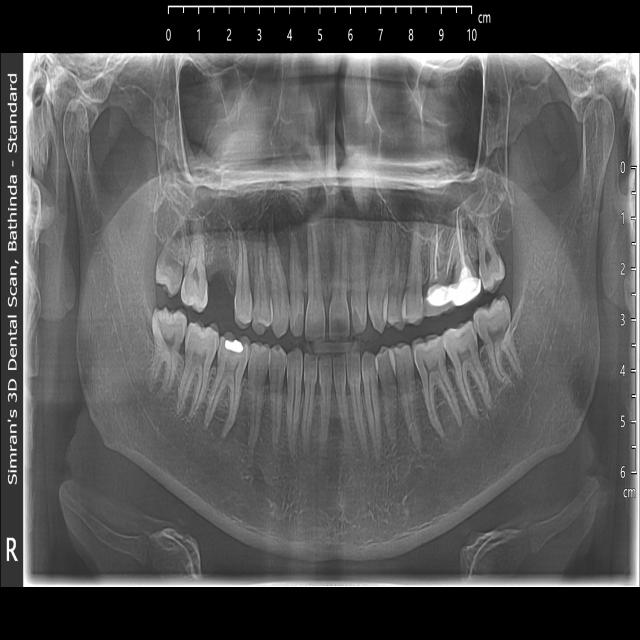Crown: (430, 276, 479, 308)
Filling: (224, 339, 244, 351)
Missing teeth: (211, 244, 231, 299)
Root Canal Treatment: (450, 210, 481, 304), (424, 216, 452, 319)
